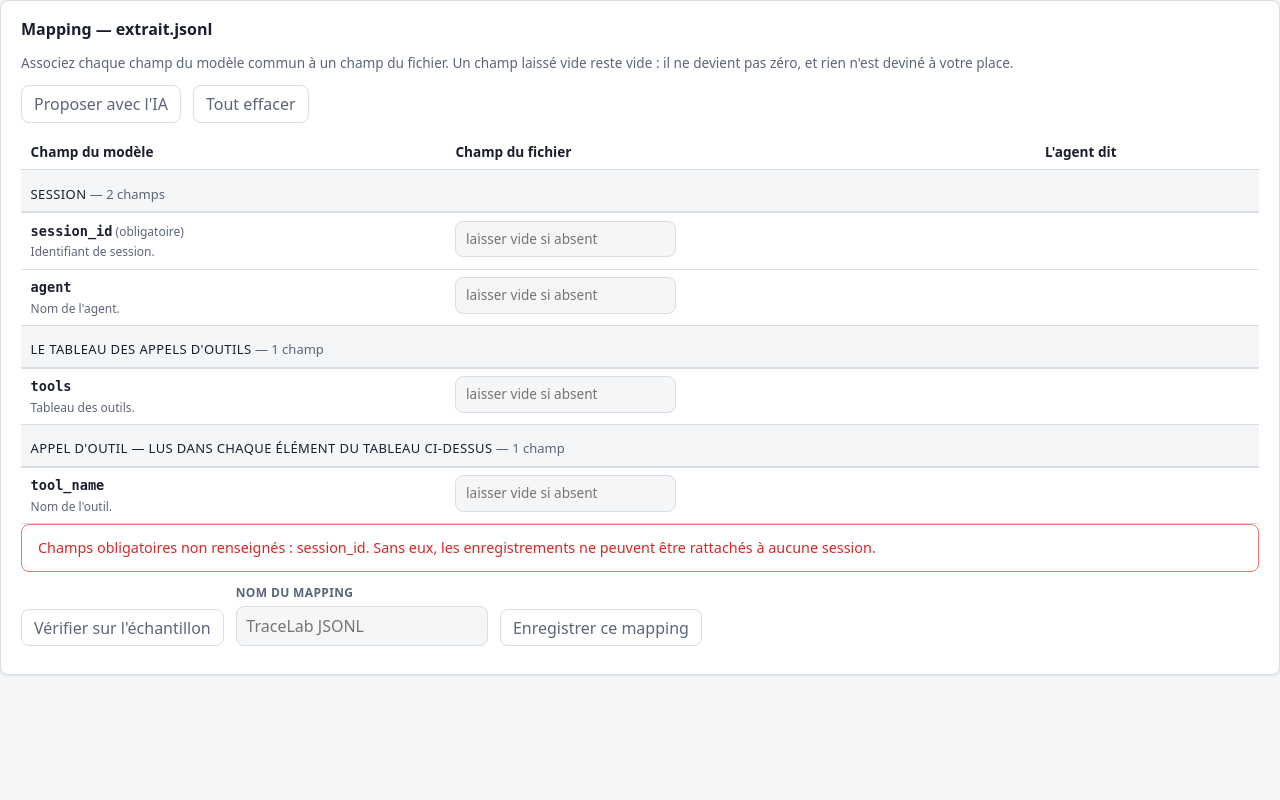
Scenario: MappingEditor — l'agent propose, l'utilisateur corrige › un fournisseur injoignable est signalé sans effacer la saisie
This screenshot has width=1280, height=800.
Step 1. Type "sid" into the field named "Champ du fichier pour session_id" → {"x": 566, "y": 239}, box [455,221,676,257]
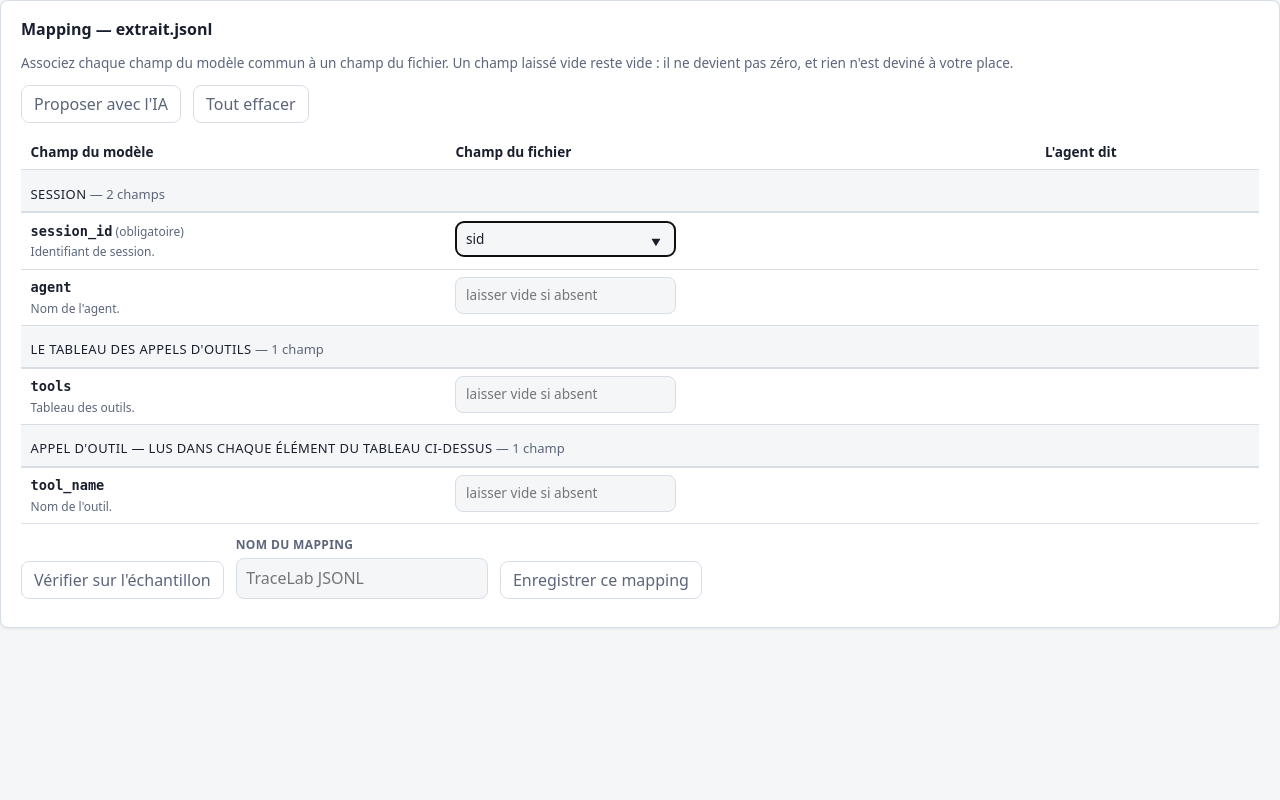
Step 2. Click the button "Proposer avec l'IA" → {"x": 101, "y": 104}, box [21,85,181,123]
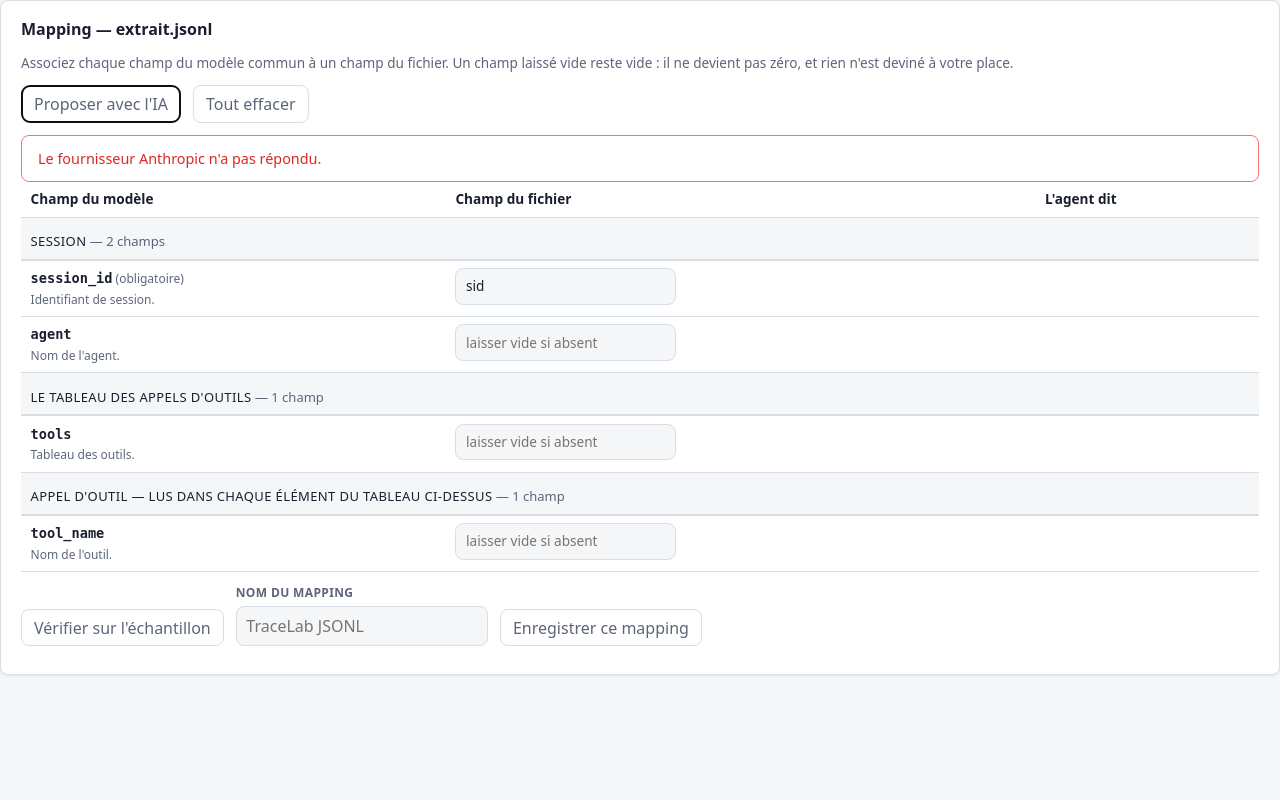
Result: the text "Le fournisseur Anthropic n'a pas répondu." is shown at [21,135,1259,182]
